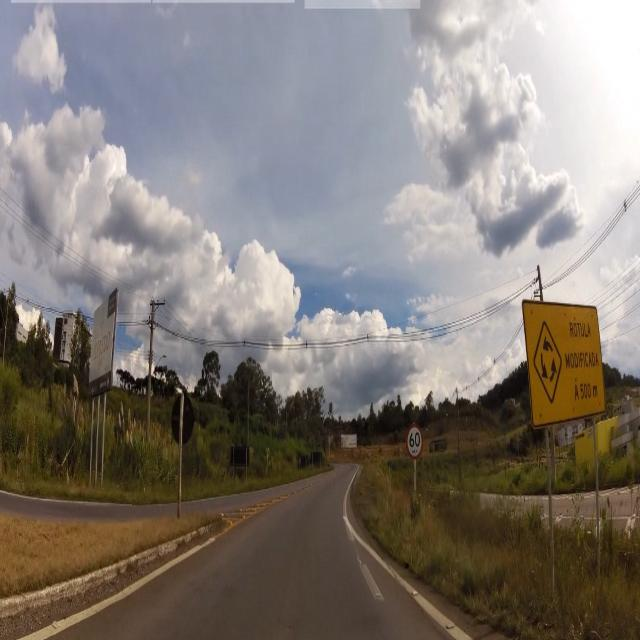R-19: (406, 422, 425, 457)
